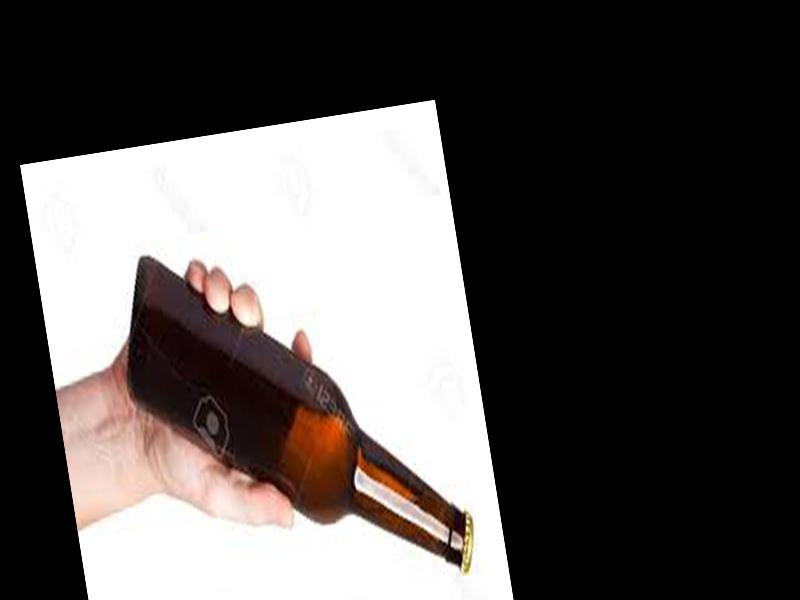Beer: (110, 215, 480, 600)
